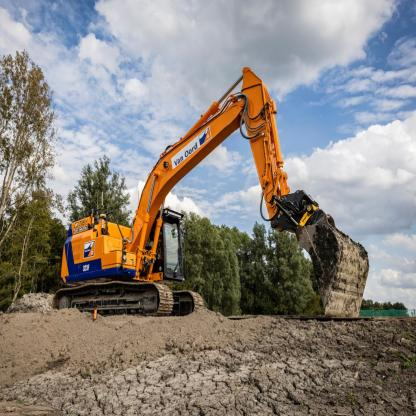excavator: (56, 59, 370, 351)
